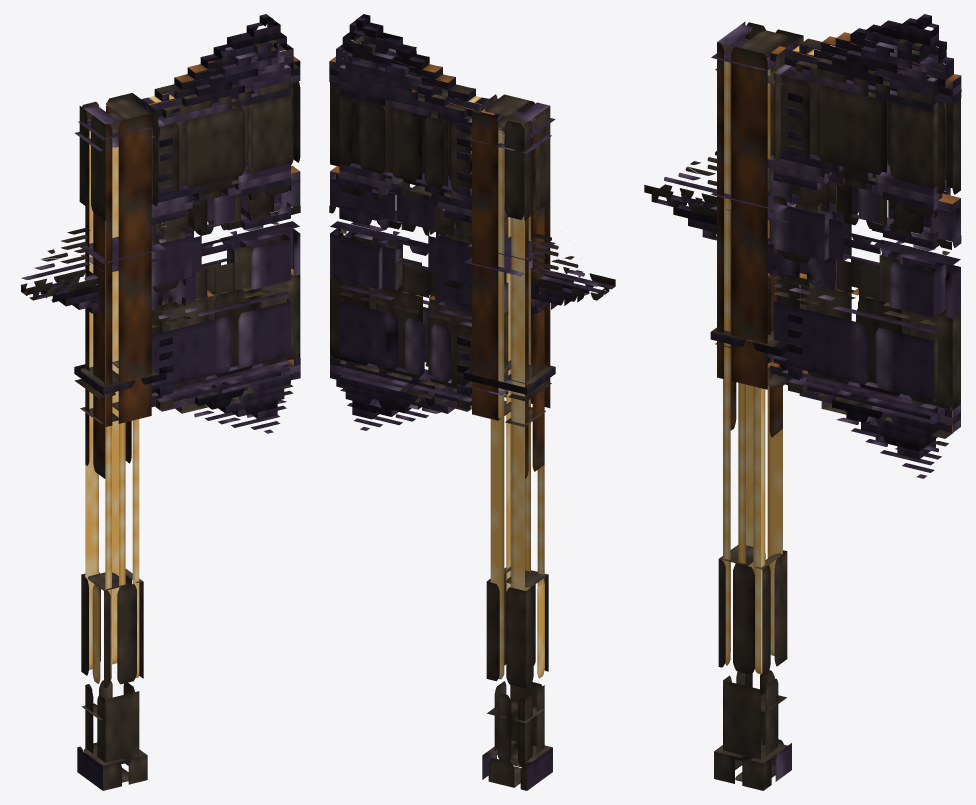
File: ninth_gate_axe.obj
3 views of the same model, side by side, from view 1: azimuth 30°, elevation 25°; view 2: azimuth 150°, elevation 25°; view 3: azimuth 330°, elevation 25° (orthographic). The views are drawn at different scales.
Parts seen in each view (by area): view 1: lit, fire; view 2: lit, fire; view 3: lit, fire.
Boxes of the visible parts, x1,y1,x2,y2 form: lit: [21, 14, 300, 790]; fire: [188, 190, 233, 299]; lit: [329, 14, 615, 790]; fire: [396, 184, 437, 297]; lit: [644, 14, 961, 790]; fire: [837, 178, 887, 299].
Bounding box in the file's own units: 1.31 × 3.28 × 0.2375.
